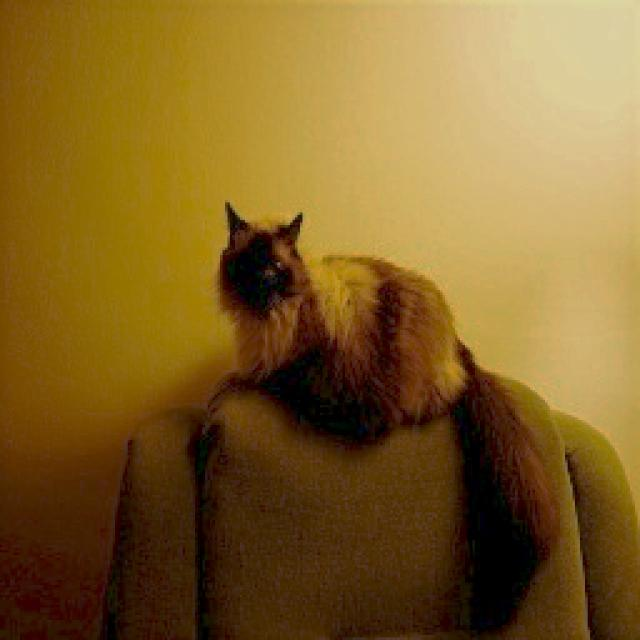cat: (195, 182, 504, 456)
